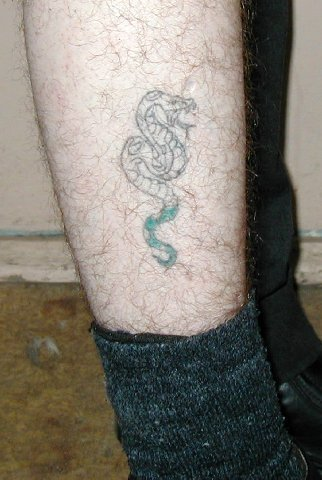tatu7_zmeya: (110, 62, 217, 290)
